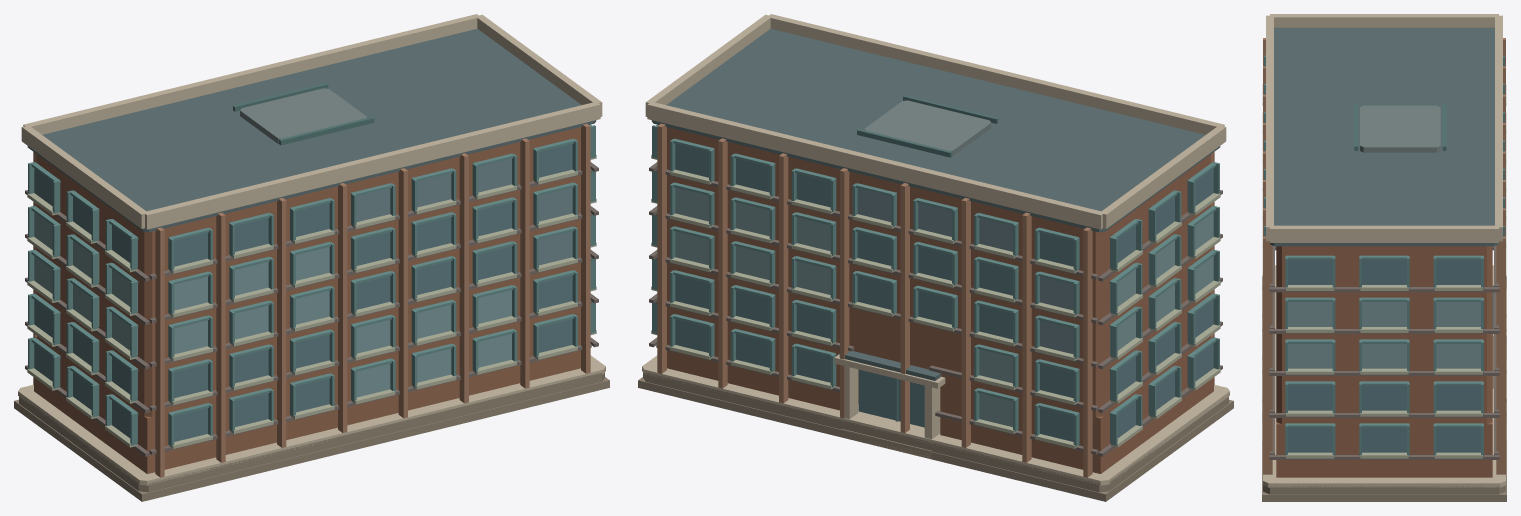
The picture shows the model from 3 angles, left to right: view 1: azimuth 30°, elevation 25°; view 2: azimuth 150°, elevation 25°; view 3: azimuth 270°, elevation 25°; orthographic projection. The views are drawn at different scales.
Parts seen in each view (by area): view 1: form, relief, glaze, glowing; view 2: form, relief, glaze, glowing; view 3: form, glaze, relief, glowing.
Part boxes in pixels (x1,y1,x2,y2): form: [14, 14, 609, 501]; relief: [27, 124, 596, 448]; glaze: [34, 144, 572, 442]; glowing: [112, 231, 572, 397]; form: [638, 14, 1233, 501]; relief: [651, 124, 1220, 448]; glaze: [675, 144, 1213, 442]; glowing: [796, 212, 1213, 354]; form: [1262, 14, 1506, 501]; glaze: [1288, 260, 1480, 452]; relief: [1262, 55, 1506, 458]; glowing: [1436, 302, 1480, 326].
Size of the model in its own units: 19 by 11 by 9.
